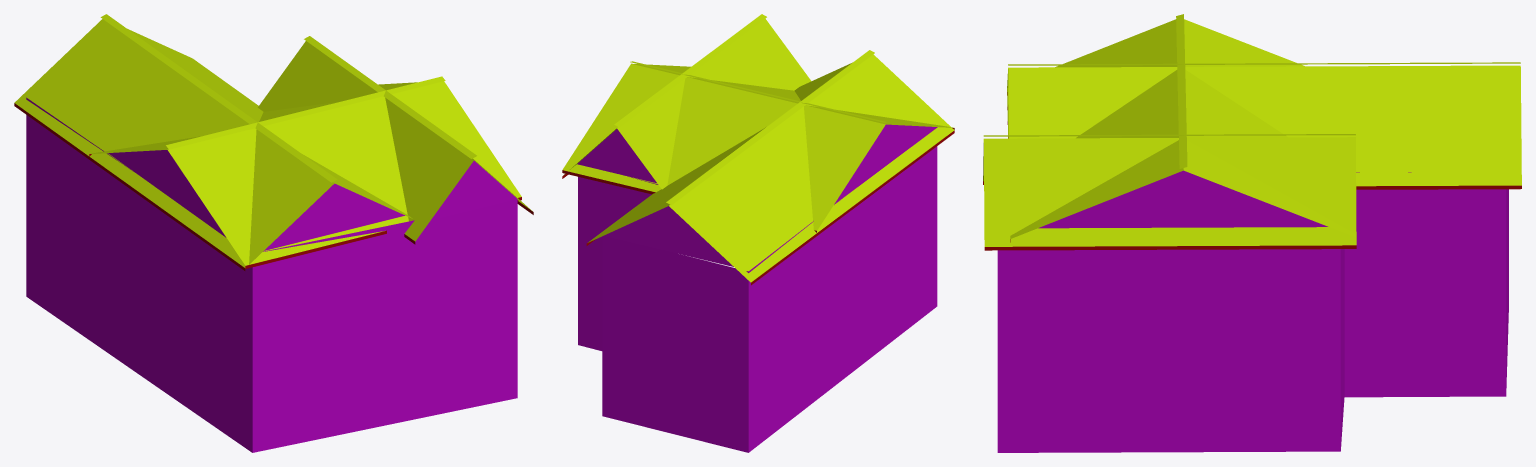
File: bgj_231.glb
3 views of the same model, side by side, from view 1: azimuth 30°, elevation 25°; view 2: azimuth 150°, elevation 25°; view 3: azimuth 270°, elevation 25° (orthographic). The views are drawn at different scales.
Parts seen in each view (by area): view 1: bgj_231; view 2: bgj_231; view 3: bgj_231.
Part boxes in pixels (x1,y1,x2,y2): bgj_231: (14, 14, 533, 452); bgj_231: (562, 14, 954, 452); bgj_231: (983, 14, 1521, 452).
Bounding box in the file's own units: 11.14 × 9.74 × 16.35.
